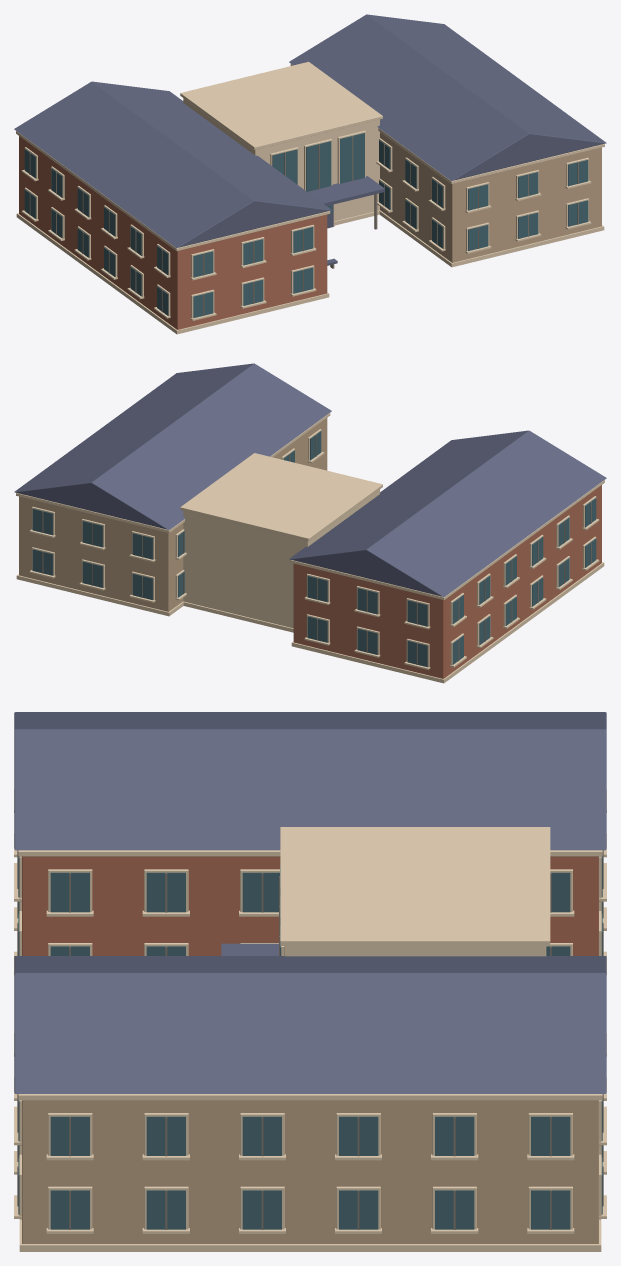
Rendered from school.glb.
The picture shows the model from 3 angles, top to bottom: view 1: azimuth 30°, elevation 25°; view 2: azimuth 150°, elevation 25°; view 3: azimuth 270°, elevation 25°; orthographic projection. The views are drawn at different scales.
Visible parts, largest first — view 1: school; view 2: school; view 3: school.
Boxes of the visible parts, x1,y1,x2,y2 form: school: [14, 14, 606, 334]; school: [14, 363, 606, 683]; school: [14, 712, 606, 1251].
Size of the model in its own units: 34.62 by 8.89 by 22.62.
